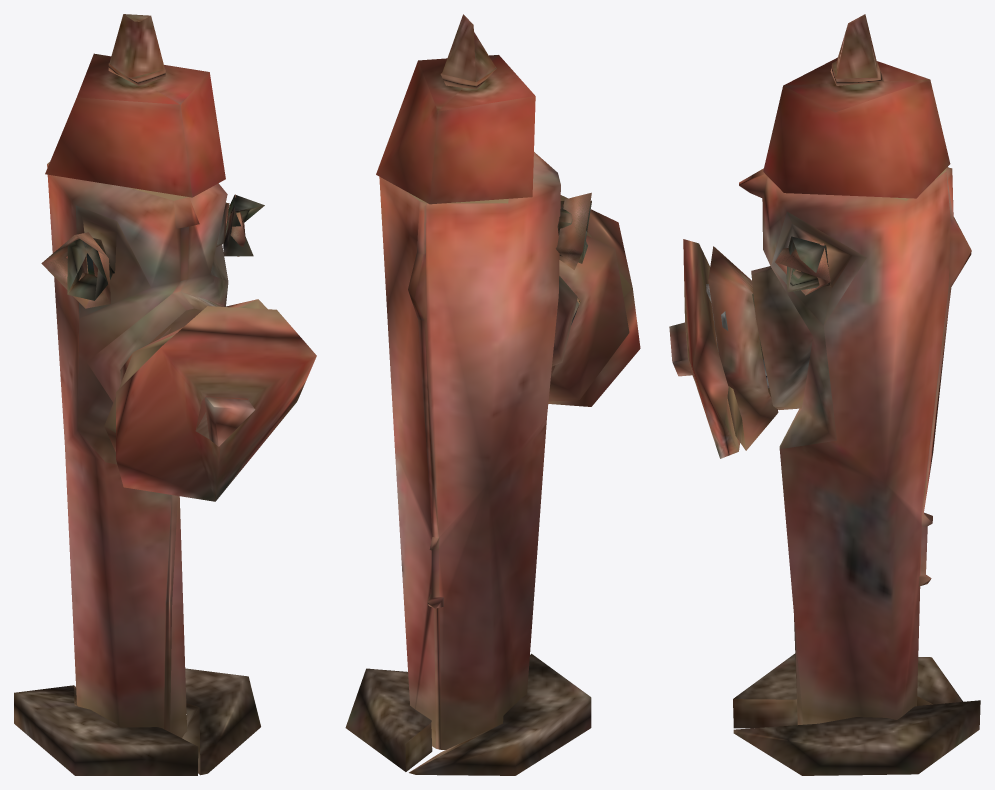
Rendered from hydrant.glb.
3 views of the same model, side by side, from view 1: azimuth 30°, elevation 25°; view 2: azimuth 150°, elevation 25°; view 3: azimuth 270°, elevation 25° (orthographic).
Visible parts, largest first — view 1: hydrant; view 2: hydrant; view 3: hydrant.
Part boxes in pixels (bbox=[...]): hydrant: bbox=[14, 14, 316, 775]; hydrant: bbox=[345, 14, 640, 775]; hydrant: bbox=[669, 14, 980, 775].
Bounding box in the file's own units: 0.2491 × 0.7992 × 0.3173.
1 material, 1 textured.
